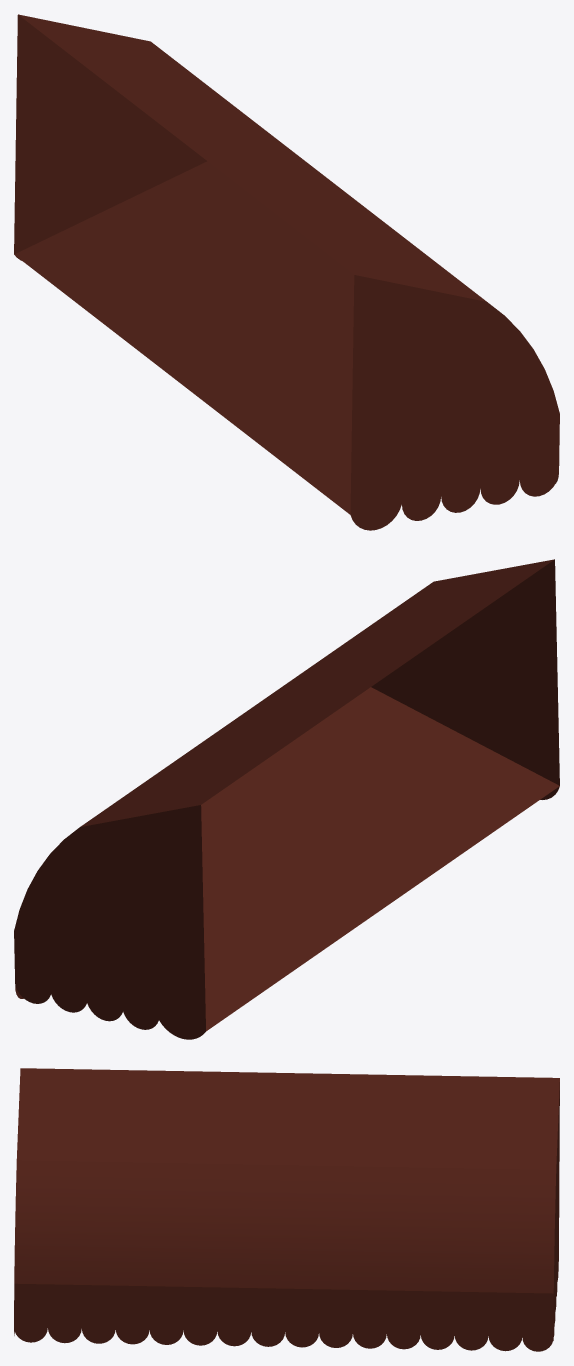
Rendered from peets_awning.dae.
3 views of the same model, one above another, from view 1: azimuth 30°, elevation 25°; view 2: azimuth 150°, elevation 25°; view 3: azimuth 270°, elevation 25° (orthographic). The views are drawn at different scales.
Visible parts, largest first — view 1: storefront_awning; view 2: storefront_awning; view 3: storefront_awning.
Boxes of the visible parts, x1,y1,x2,y2 form: storefront_awning: (14,14,559,530); storefront_awning: (14,559,559,1039); storefront_awning: (14,1068,559,1351).
Size of the model in its own units: 17.43 by 48.3 by 19.79.
